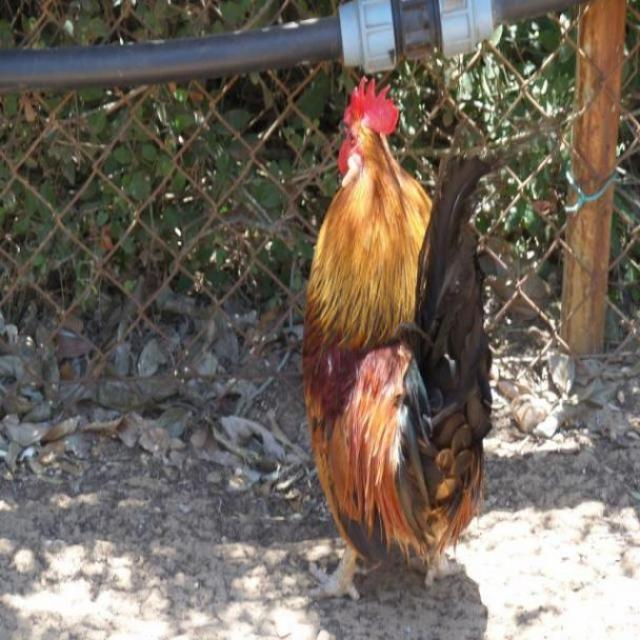Chicken: (301, 69, 497, 590)
